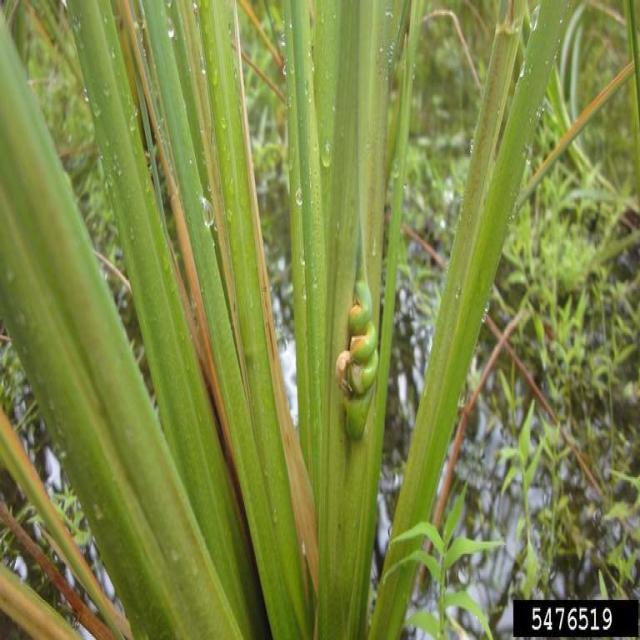Bacterial leaf blight: (118, 0, 319, 625), (3, 421, 111, 631)
